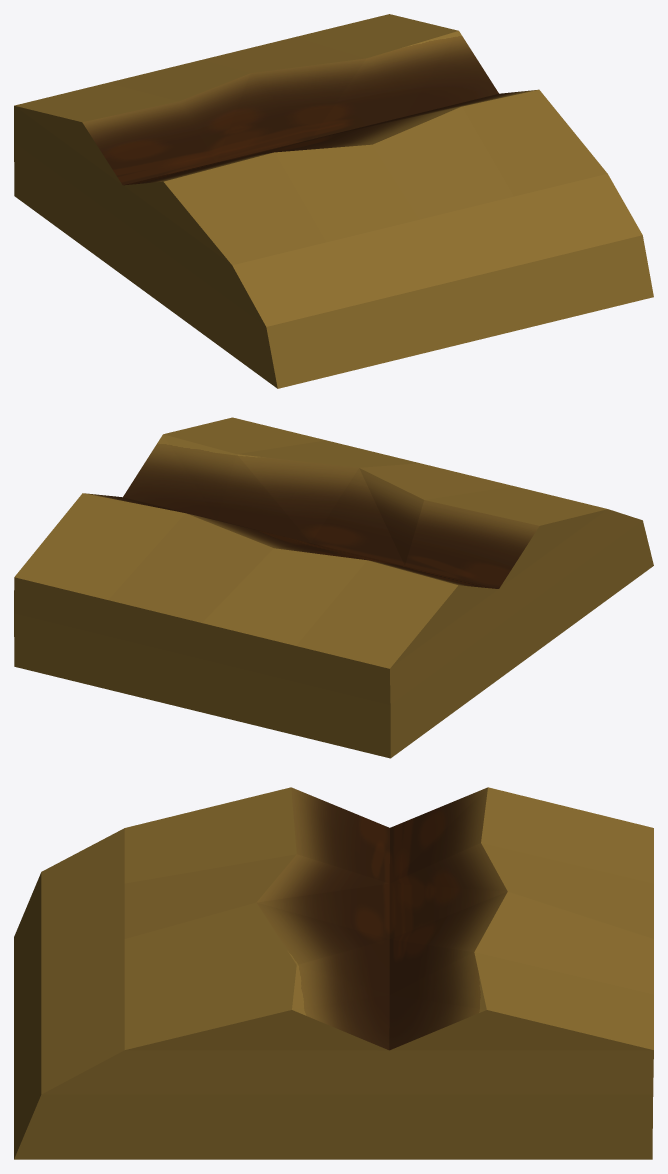
The model's file is groove_water_bed2.fbx.
3 renders of one model, top to bottom at view 1: azimuth 30°, elevation 25°; view 2: azimuth 150°, elevation 25°; view 3: azimuth 270°, elevation 25°, orthographic. The views are drawn at different scales.
Parts seen in each view (by area): view 1: Куб.016; view 2: Куб.016; view 3: Куб.016.
Boxes of the visible parts, x1,y1,x2,y2 form: Куб.016: [14, 14, 653, 388]; Куб.016: [14, 417, 653, 758]; Куб.016: [14, 787, 653, 1159].
Bounding box in the file's own units: 70 × 21.96 × 85.
